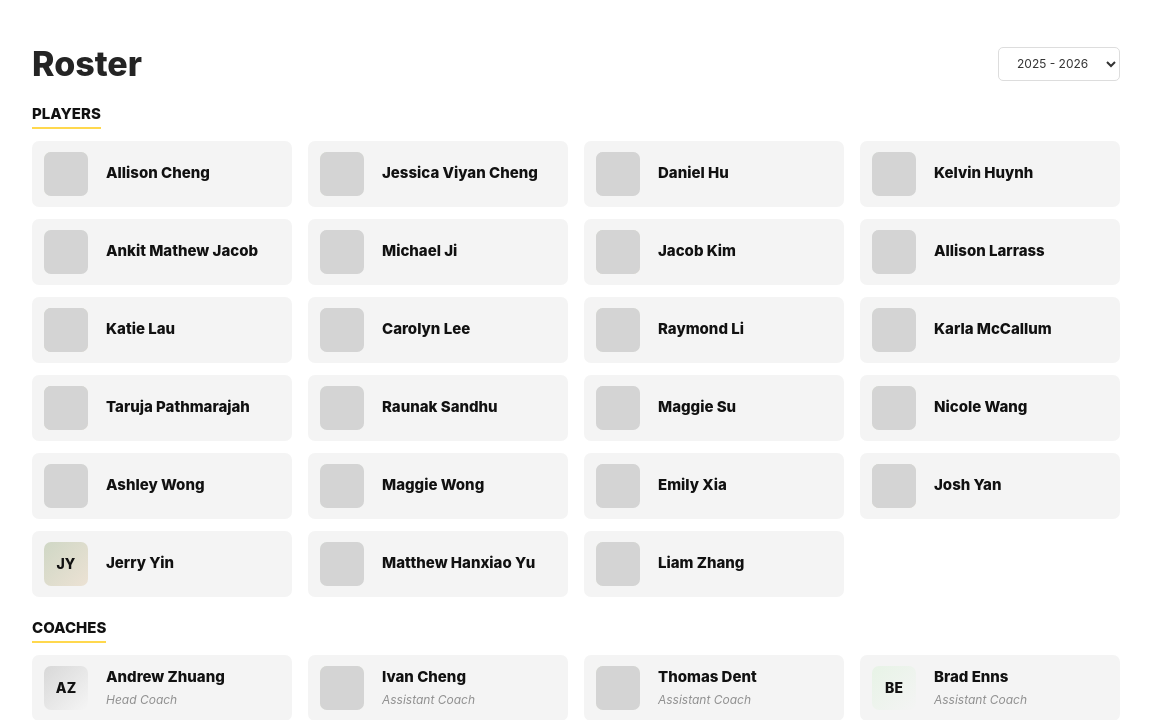
switches roster seasons from the dropdown
This screenshot has width=1152, height=720.
Select "2024 - 2025" in the dropdown at (1059, 64), box [998, 47, 1120, 81]
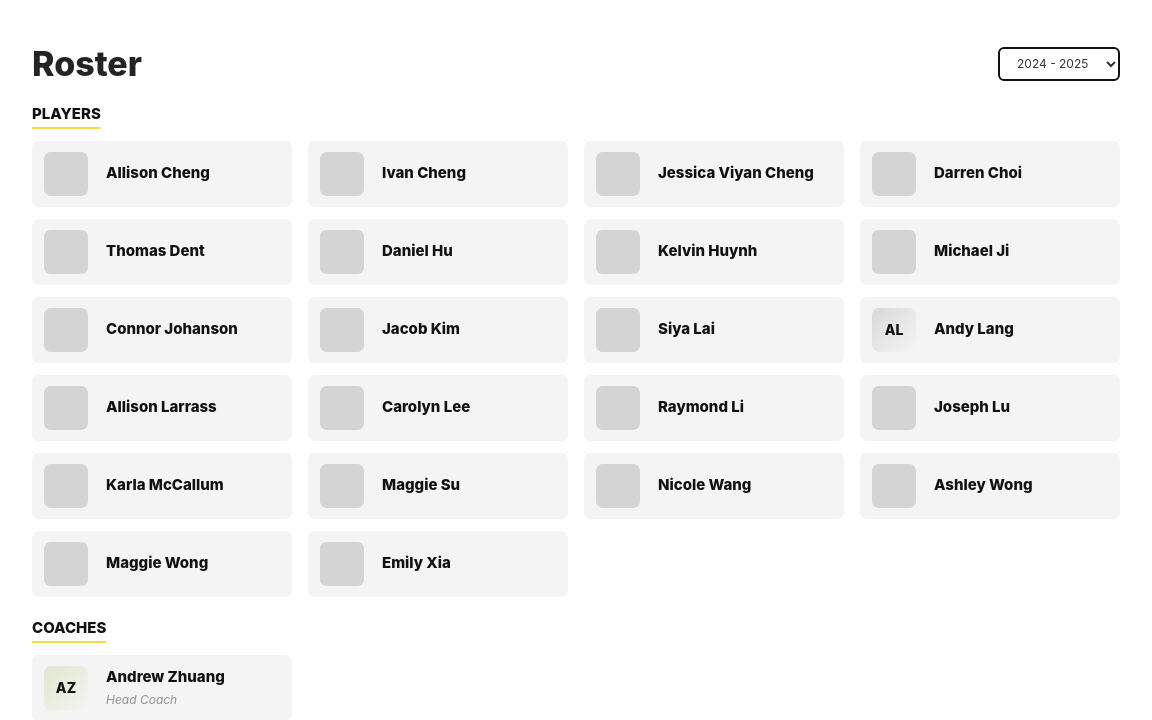
Expected: the text "Allison Cheng" is shown, [106, 164, 210, 182]
Now the text "Darren Choi" is shown, box [934, 164, 1022, 182]
Select "2023 - 2024" in the dropdown at (1059, 64), box [998, 47, 1120, 81]
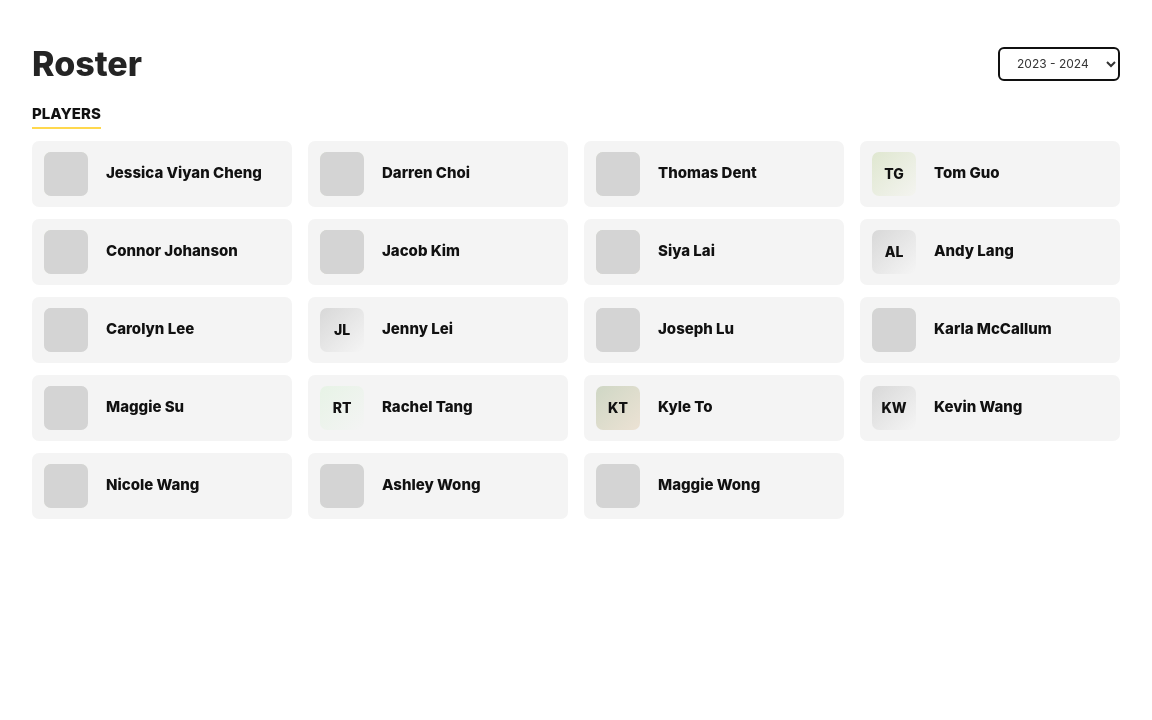
Expected: the link "Liam Zhang" is not shown
Now the text "Tom Guo" is shown, box [934, 164, 1000, 182]
